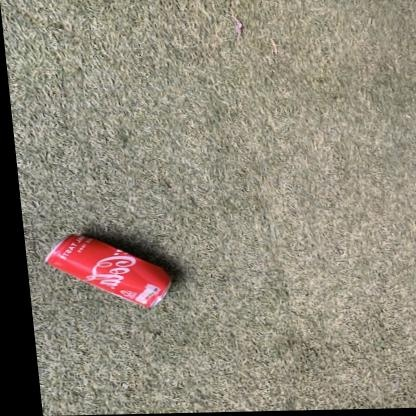trash: (46, 235, 170, 307)
